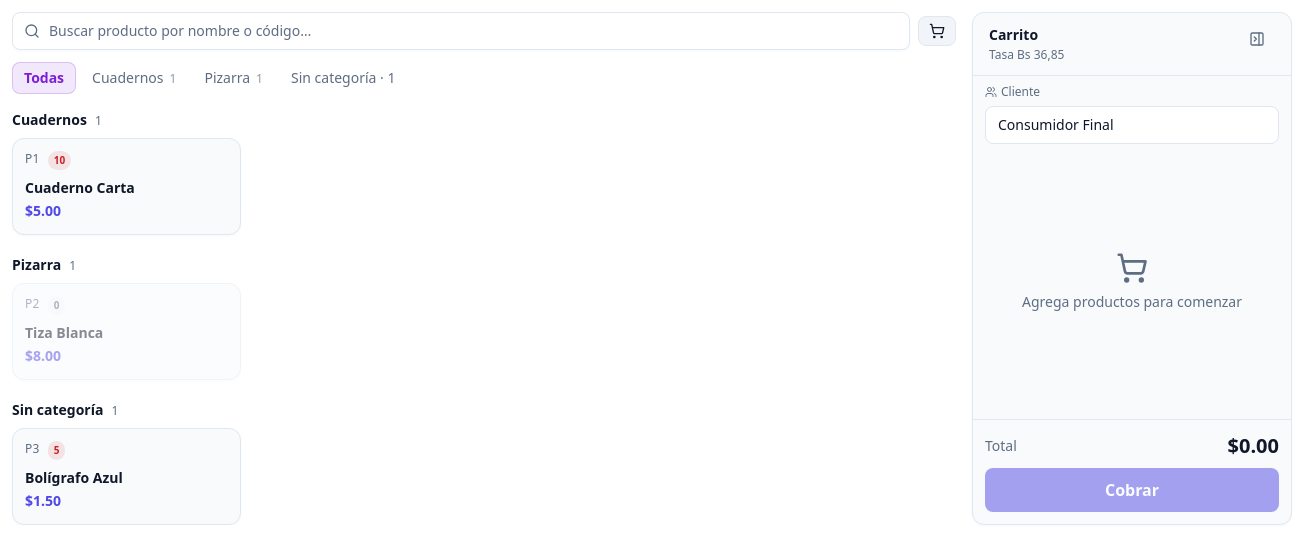
Test: VentaPage › desagrupa el catálogo al escribir en el buscador
This screenshot has width=1292, height=542.
Check: the text "Cuaderno Carta" is shown, box [25, 178, 135, 198]
Type "o" into the field labelled "Buscar producto". click: (461, 31)
box: [12, 12, 910, 50]
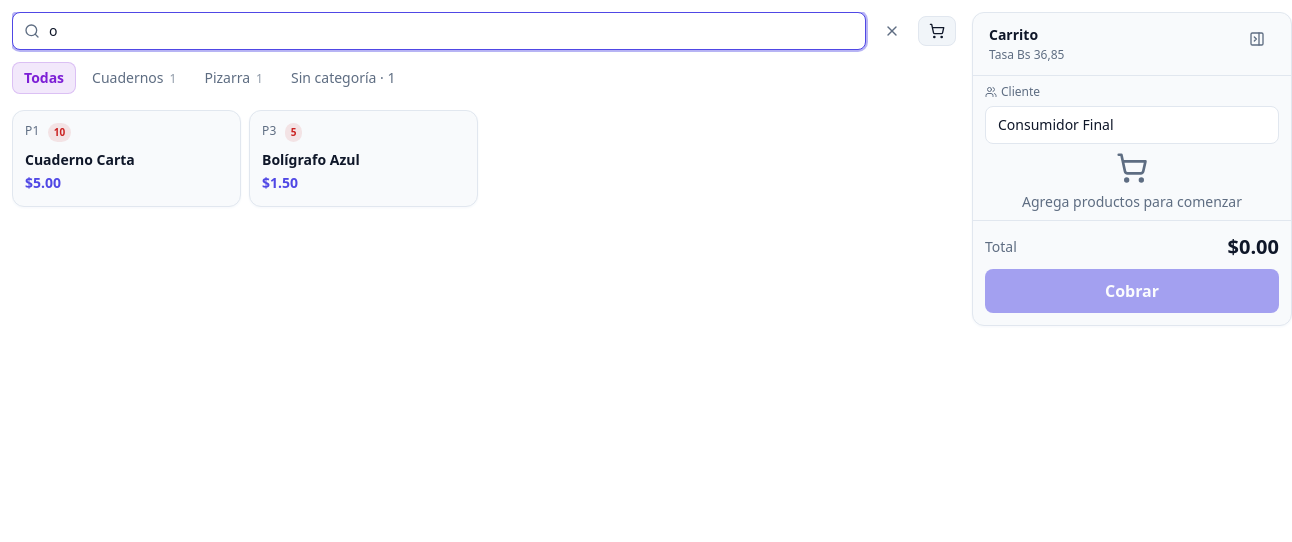
Check: the text "Cuaderno Carta" is shown, box [25, 150, 135, 170]
Check: the button "Tiza Blanca" is gone
